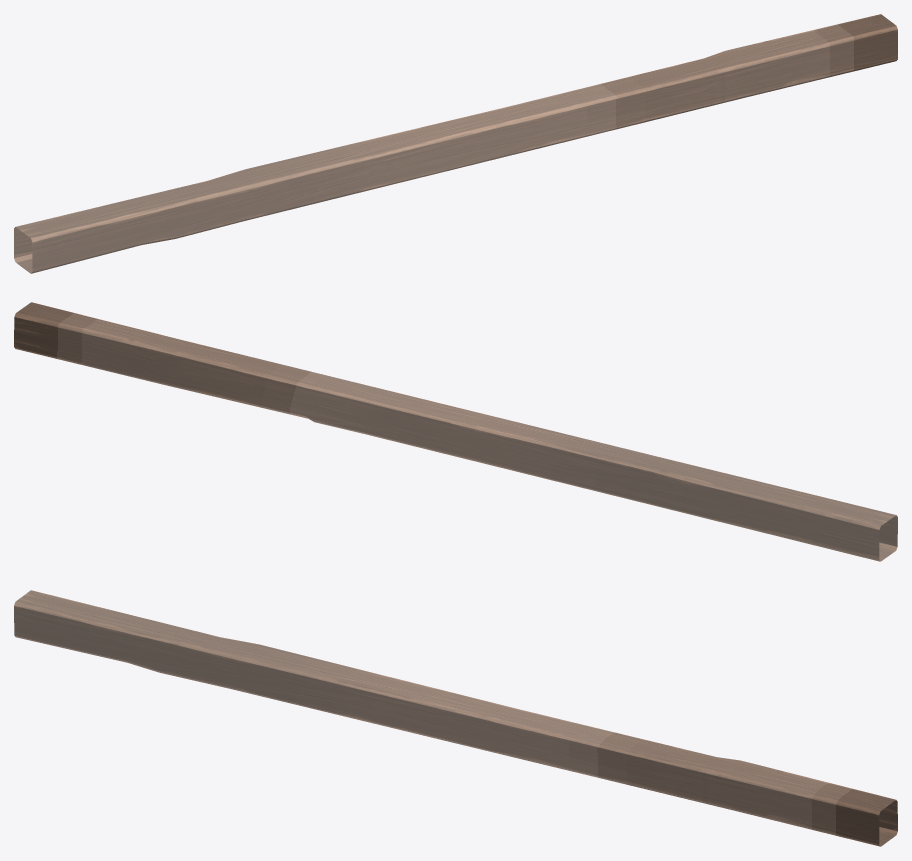
The model's file is SM_BlacksmithS_Column.fbx.
3 renders of one model, top to bottom at view 1: azimuth 30°, elevation 25°; view 2: azimuth 150°, elevation 25°; view 3: azimuth 330°, elevation 25°, orthographic.
Visible parts, largest first — view 1: SM_BlacksmithS_Column_LOD0; view 2: SM_BlacksmithS_Column_LOD0; view 3: SM_BlacksmithS_Column_LOD0.
Part boxes in pixels (box(x1,y1,x2,y2)): SM_BlacksmithS_Column_LOD0: box(14, 14, 897, 273); SM_BlacksmithS_Column_LOD0: box(14, 302, 897, 561); SM_BlacksmithS_Column_LOD0: box(14, 590, 897, 846).
Bounding box in the file's own units: 1062 × 40.27 × 45.48.
